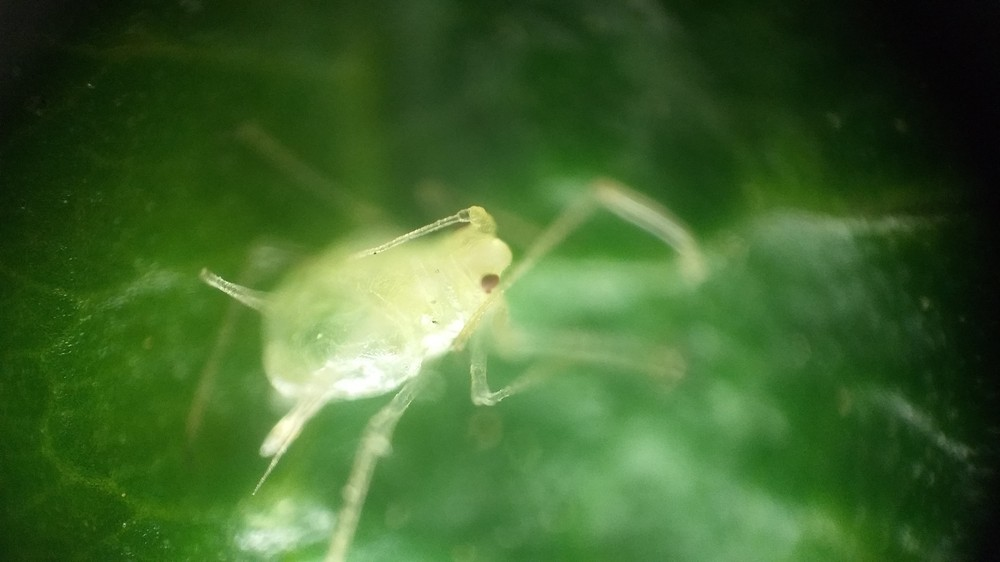Pulgon: (189, 129, 732, 539)
